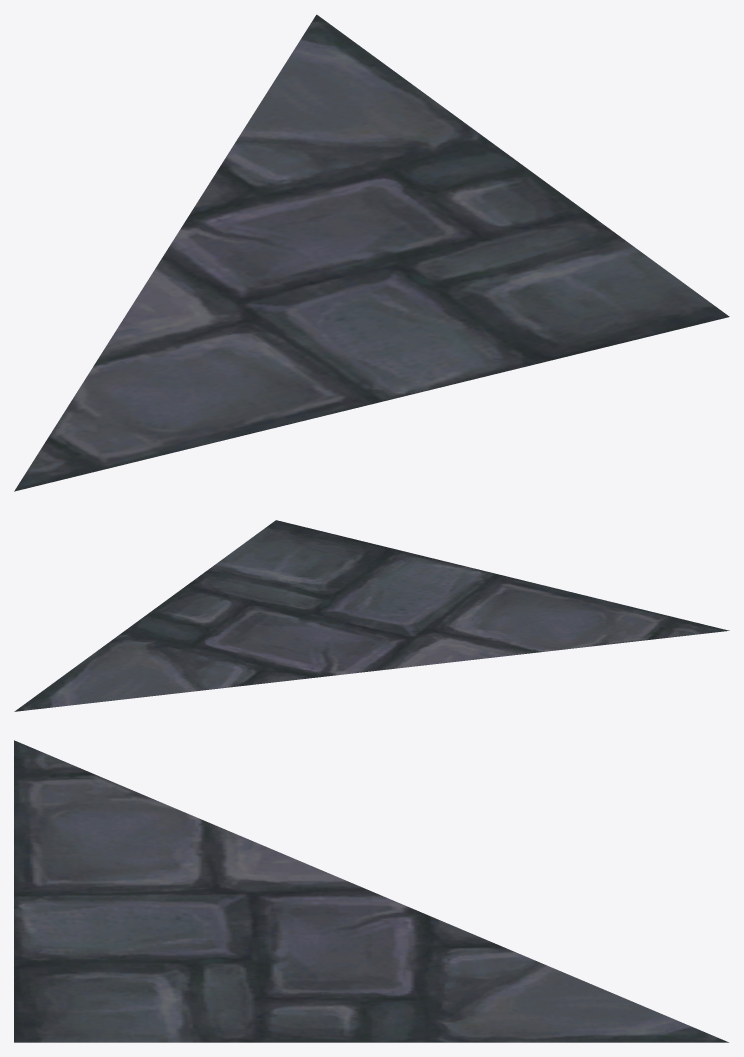
The model's file is crypt_floor_angle_left_noshadow_01.fbx.
The picture shows the model from 3 angles, top to bottom: view 1: azimuth 30°, elevation 25°; view 2: azimuth 150°, elevation 25°; view 3: azimuth 270°, elevation 25°; orthographic projection. The views are drawn at different scales.
Visible parts, largest first — view 1: crypt_tileset/crypt_floor01; view 2: crypt_tileset/crypt_floor01; view 3: crypt_tileset/crypt_floor01.
Boxes of the visible parts, x1=… form: crypt_tileset/crypt_floor01: x1=14, y1=14, x2=729, y2=491; crypt_tileset/crypt_floor01: x1=14, y1=520, x2=729, y2=711; crypt_tileset/crypt_floor01: x1=14, y1=740, x2=728, y2=1042.
Size of the model in its own units: 4 by 6.95e-07 by 4.
